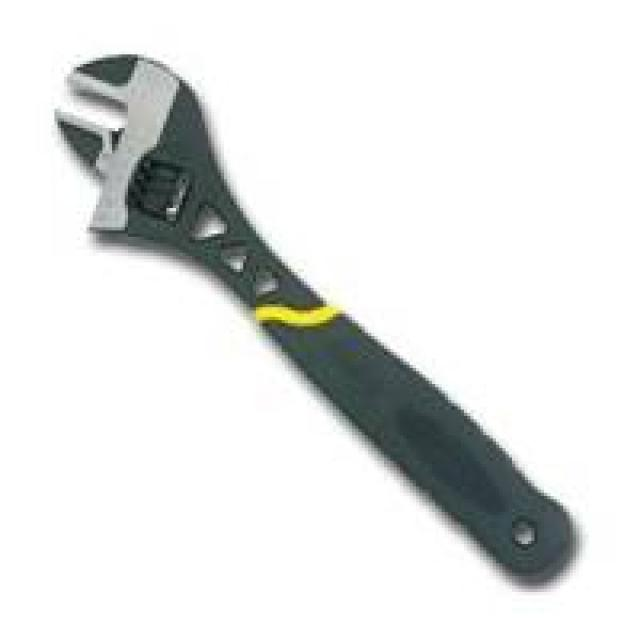wrench: (38, 31, 537, 548)
